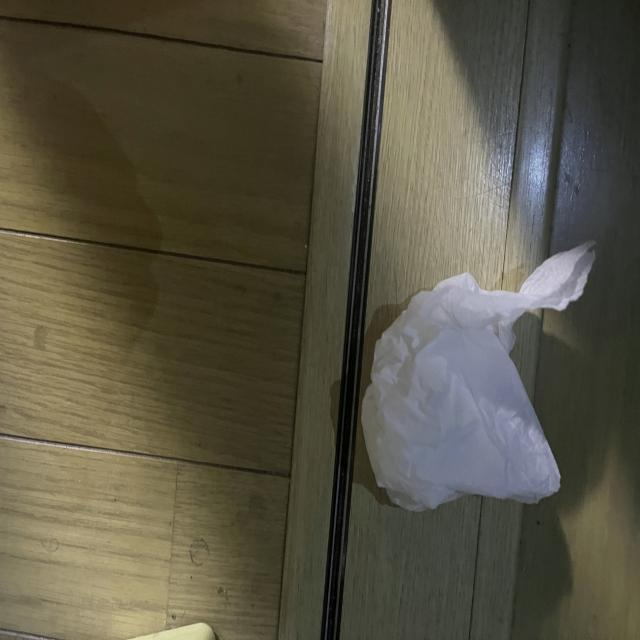Paper: (349, 232, 584, 532)
